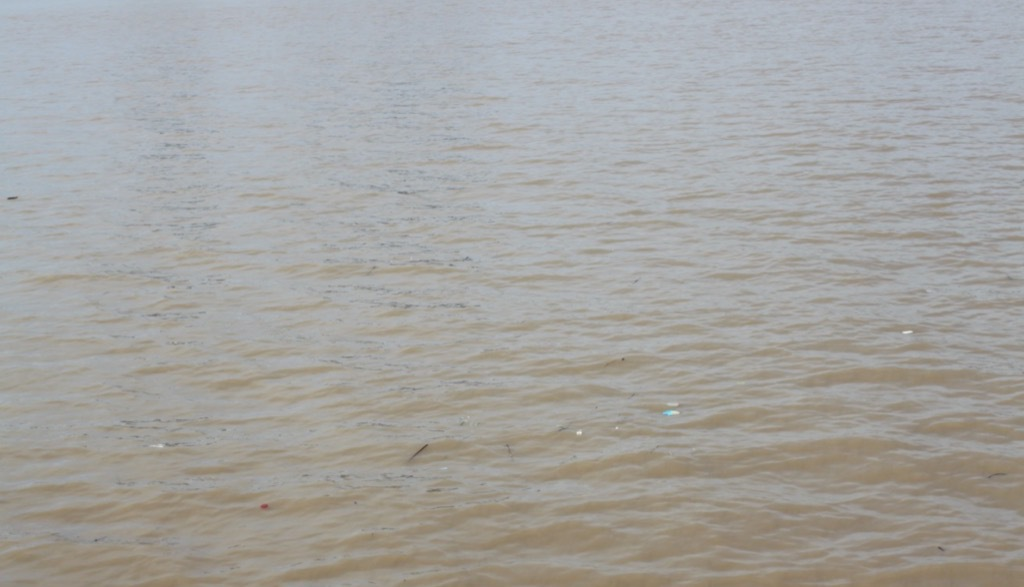organic: (397, 435, 433, 470), (500, 439, 524, 470), (930, 540, 956, 562), (550, 418, 572, 438), (626, 271, 645, 290), (1, 190, 23, 206), (620, 387, 638, 403), (349, 496, 362, 510), (618, 353, 627, 364)
plastic: (255, 499, 278, 518), (660, 397, 684, 409), (145, 439, 168, 451), (660, 407, 682, 418), (897, 327, 919, 337), (572, 426, 585, 438), (436, 463, 450, 474), (613, 422, 622, 433)
